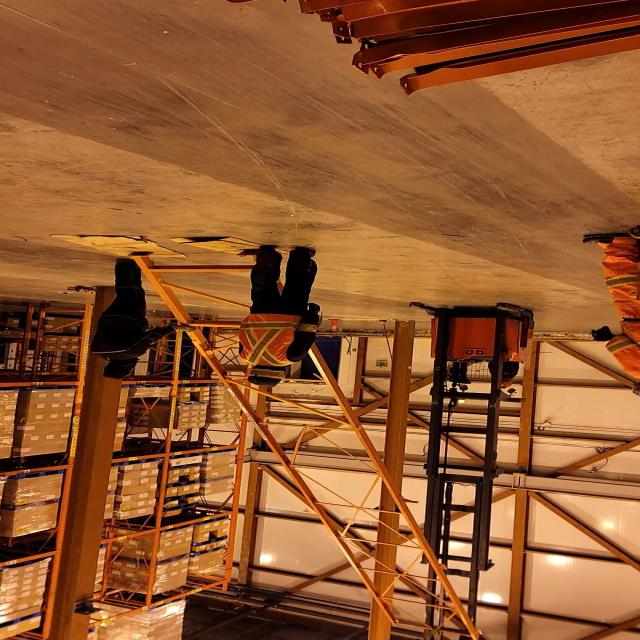forklift: (405, 301, 538, 478)
human: (86, 254, 198, 382), (234, 243, 324, 390), (575, 231, 640, 407), (466, 360, 524, 390)
objectofinterest: (122, 249, 488, 640), (51, 232, 191, 261), (166, 234, 300, 258)
